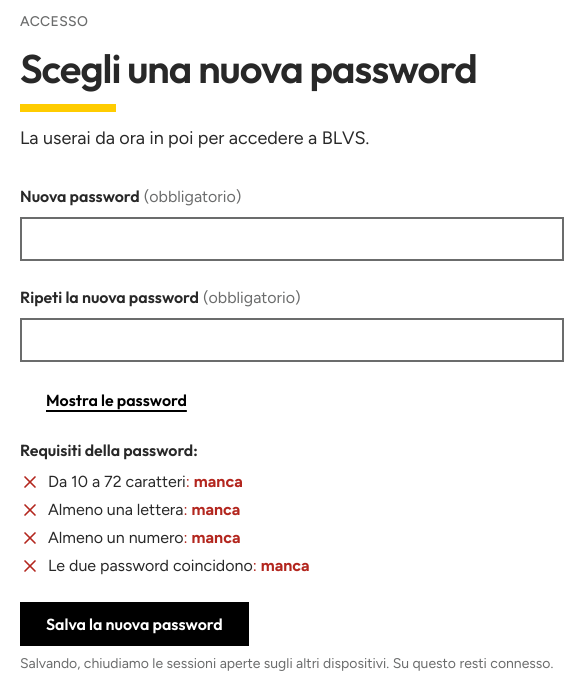
Test: w-reset › i due campi usano autocomplete new-password e i requisiti hanno l'esito a testo
Expected: the list item "Almeno un numero: manca" is shown, [20,528,240,548]
In the password field labelled "Nuova password (obbligatorio)": (292, 239) [20,217,564,261], type "abc1"
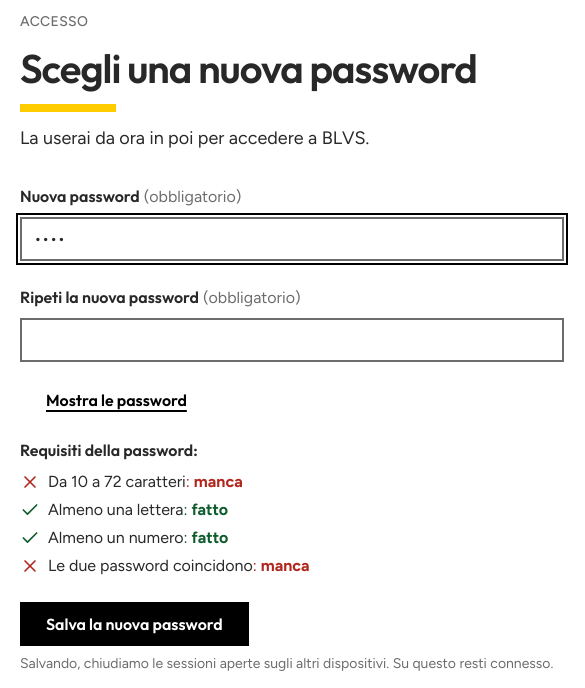
Expected: the list item "Da 10 a 72 caratteri: manca" is shown, [20,472,243,492]
Now the list item "Almeno un numero: fatto" is shown, box [20,528,228,548]
In the password field labelled "Ripeti la nuova password (obbligatorio)": (292, 340) [20,318,564,362], type "abc1"
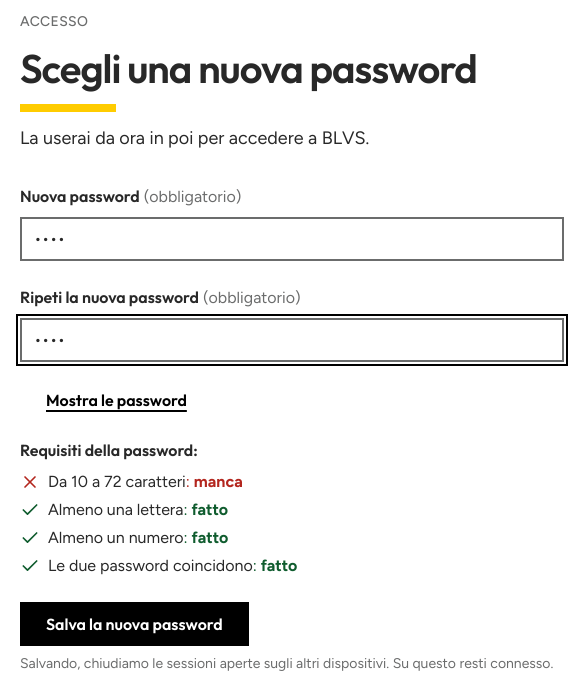
Now the list item "Le due password coincidono: fatto" is shown, box [20,556,297,576]
